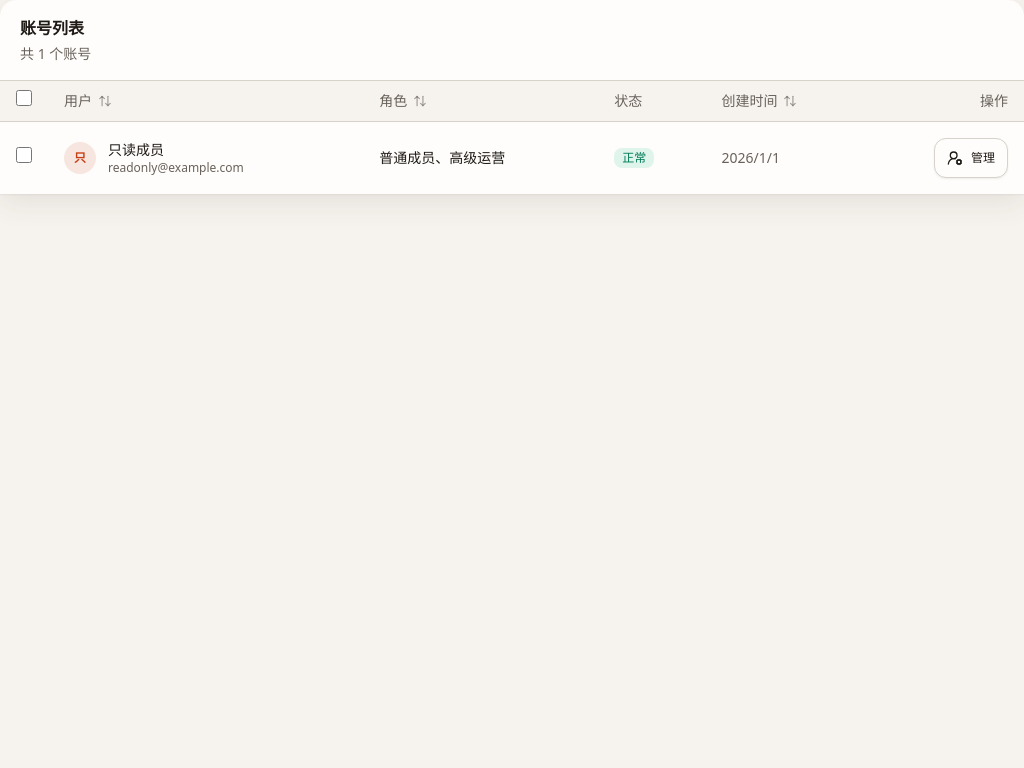
Test: UserList › renders and preselects all assigned roles
The image size is (1024, 768).
Expected: the text "普通成员、高级运营" is shown, x1=379 y1=148 x2=505 y2=166
Click the button with aria-label "管理 readonly@example.com" at (971, 158), box x1=934 y1=138 x2=1008 y2=178
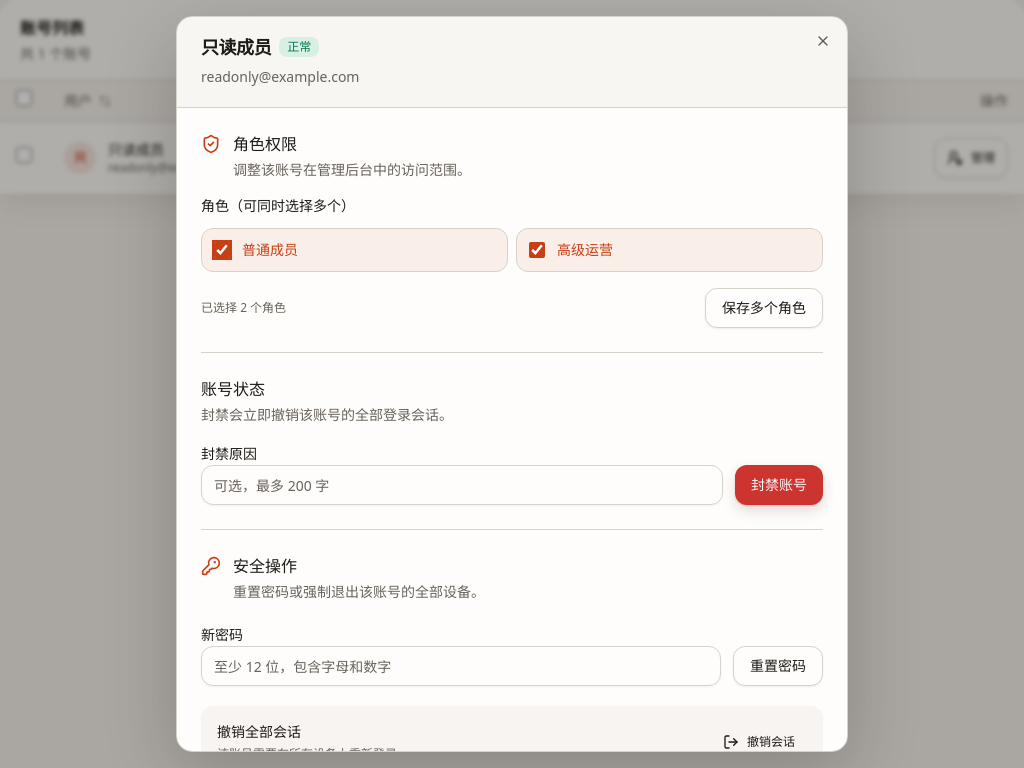
Now the checkbox labelled "普通成员" is checked, box x1=214 y1=242 x2=230 y2=258
Now the checkbox labelled "高级运营" is checked, box x1=529 y1=242 x2=545 y2=258
